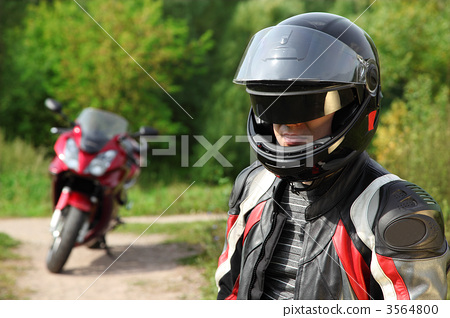helmet: (240, 1, 382, 187)
